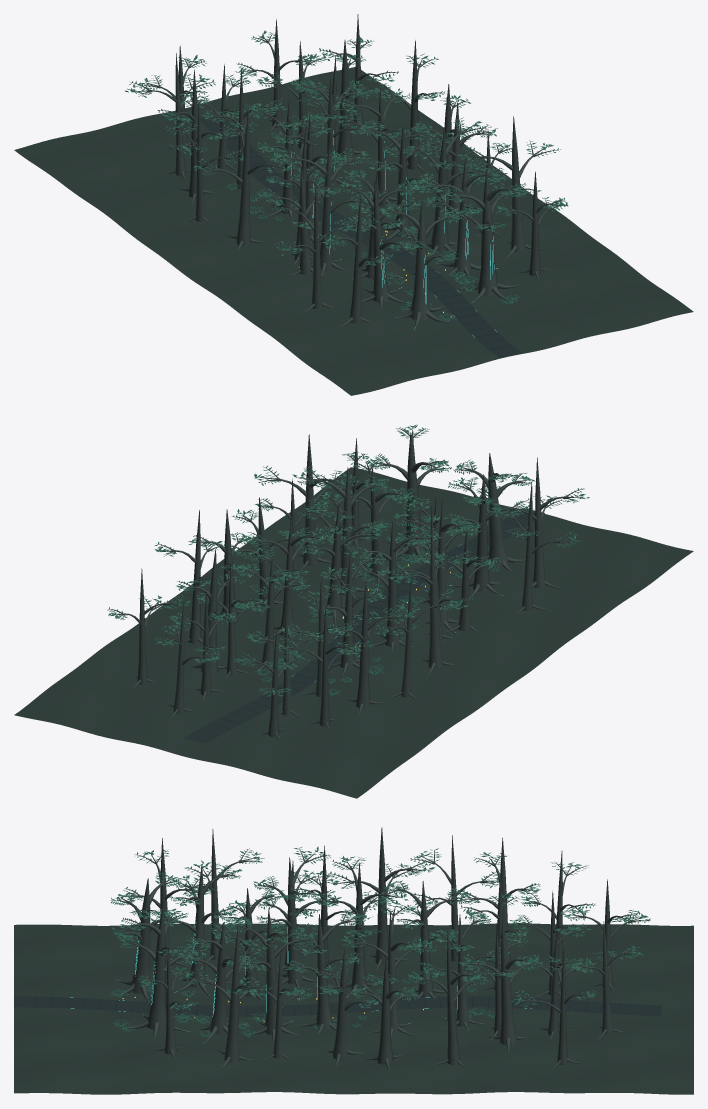
Rendered from techno-forest.glb.
3 renders of one model, top to bottom at view 1: azimuth 30°, elevation 25°; view 2: azimuth 150°, elevation 25°; view 3: azimuth 270°, elevation 25°, orthographic.
Visible parts, largest first — view 1: Continuous forest floor, Forest · Branching trees / Forest / carbon-mineral bark, Forest · Branching trees / Forest / jade carbon foliage, Winding monolithic basalt path, Forest · Understory / Forest / jade carbon foliage; view 2: Continuous forest floor, Forest · Branching trees / Forest / carbon-mineral bark, Forest · Branching trees / Forest / jade carbon foliage, Winding monolithic basalt path, Forest · Understory / Forest / jade carbon foliage; view 3: Continuous forest floor, Forest · Branching trees / Forest / carbon-mineral bark, Forest · Branching trees / Forest / jade carbon foliage, Winding monolithic basalt path, Forest · Understory / Forest / jade carbon foliage.
Part boxes in pixels (x1,y1,x2,y2): Continuous forest floor: (14, 67, 693, 395); Forest · Branching trees / Forest / carbon-mineral bark: (129, 14, 567, 330); Forest · Branching trees / Forest / jade carbon foliage: (125, 30, 568, 265); Winding monolithic basalt path: (200, 113, 521, 357); Forest · Understory / Forest / jade carbon foliage: (225, 166, 519, 321); Continuous forest floor: (14, 467, 693, 798); Forest · Branching trees / Forest / carbon-mineral bark: (108, 428, 584, 741); Forest · Branching trees / Forest / jade carbon foliage: (107, 424, 589, 696); Winding monolithic basalt path: (184, 508, 544, 743); Forest · Understory / Forest / jade carbon foliage: (254, 530, 499, 695); Continuous forest floor: (14, 923, 693, 1094); Forest · Branching trees / Forest / carbon-mineral bark: (110, 827, 650, 1070); Forest · Branching trees / Forest / jade carbon foliage: (111, 846, 650, 1010); Winding monolithic basalt path: (14, 996, 661, 1016); Forest · Understory / Forest / jade carbon foliage: (109, 969, 495, 1037).
Bounding box in the file's own units: 37 × 14.13 × 63.
